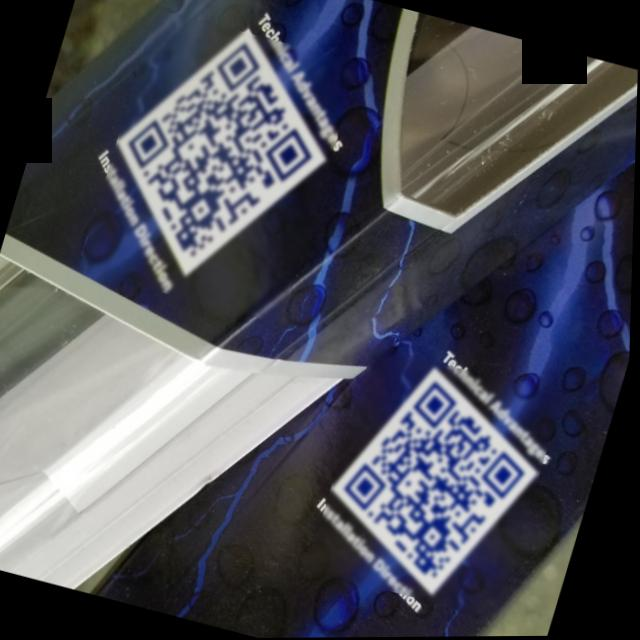QR_CODE: (78, 7, 360, 325), (308, 345, 566, 621)
